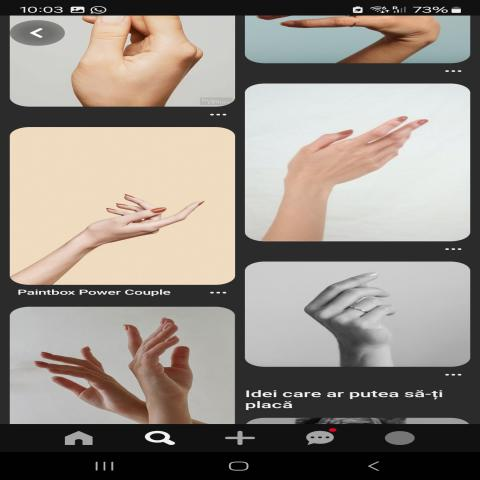hands: (271, 87, 449, 234), (51, 163, 229, 274), (287, 268, 433, 356), (119, 315, 231, 410), (15, 316, 122, 414)
